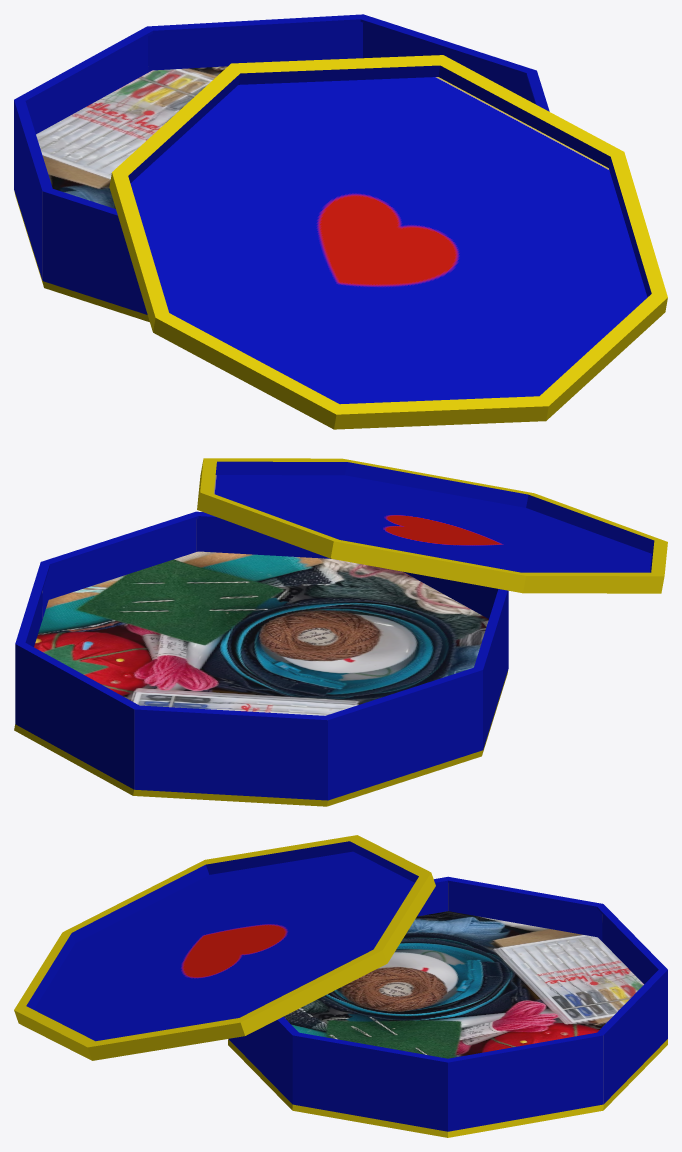
Rendered from thread_tin_asset.fbx.
3 views of the same model, one above another, from view 1: azimuth 30°, elevation 25°; view 2: azimuth 150°, elevation 25°; view 3: azimuth 270°, elevation 25° (orthographic). The views are drawn at different scales.
Visible parts, largest first — view 1: tin_lid, tin, Interior; view 2: tin, Interior, tin_lid; view 3: tin_lid, tin, Interior.
Part boxes in pixels (box(x1,y1,x2,y2)): tin_lid: box(109, 55, 667, 429); tin: box(14, 14, 549, 322); Interior: box(36, 66, 227, 208); tin: box(14, 511, 508, 806); Interior: box(34, 551, 488, 715); tin_lid: box(197, 458, 667, 593); tin_lid: box(14, 835, 435, 1060); tin: box(228, 876, 667, 1137); Interior: box(283, 911, 643, 1058).
Size of the model in its own units: 219 by 73.24 by 297.
3 materials, 3 textured.
